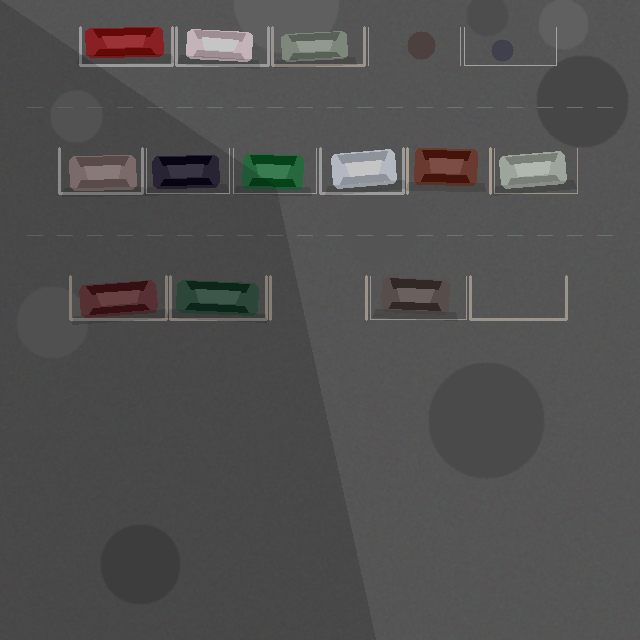space-empty: (270, 276, 366, 319), (470, 276, 566, 319), (368, 27, 460, 65), (464, 27, 556, 65)
space-occupied: (70, 276, 166, 319), (170, 276, 266, 319), (370, 276, 466, 319), (59, 148, 142, 193), (146, 148, 229, 193), (233, 148, 316, 193), (320, 148, 403, 193), (407, 148, 490, 193), (494, 148, 577, 193), (80, 27, 172, 65), (176, 27, 268, 65), (272, 27, 364, 65)
